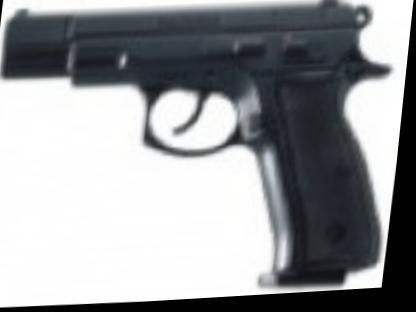pistol: (0, 0, 413, 308)
